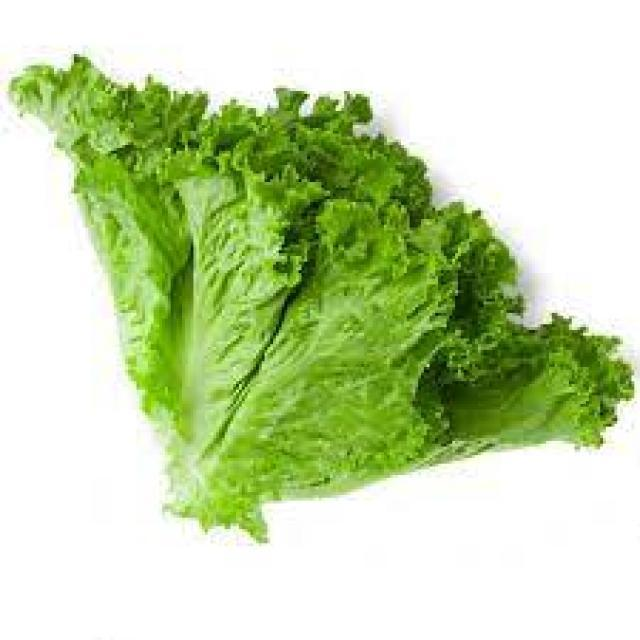Lettuce-Ready-to-Harvest: (10, 48, 626, 537)
